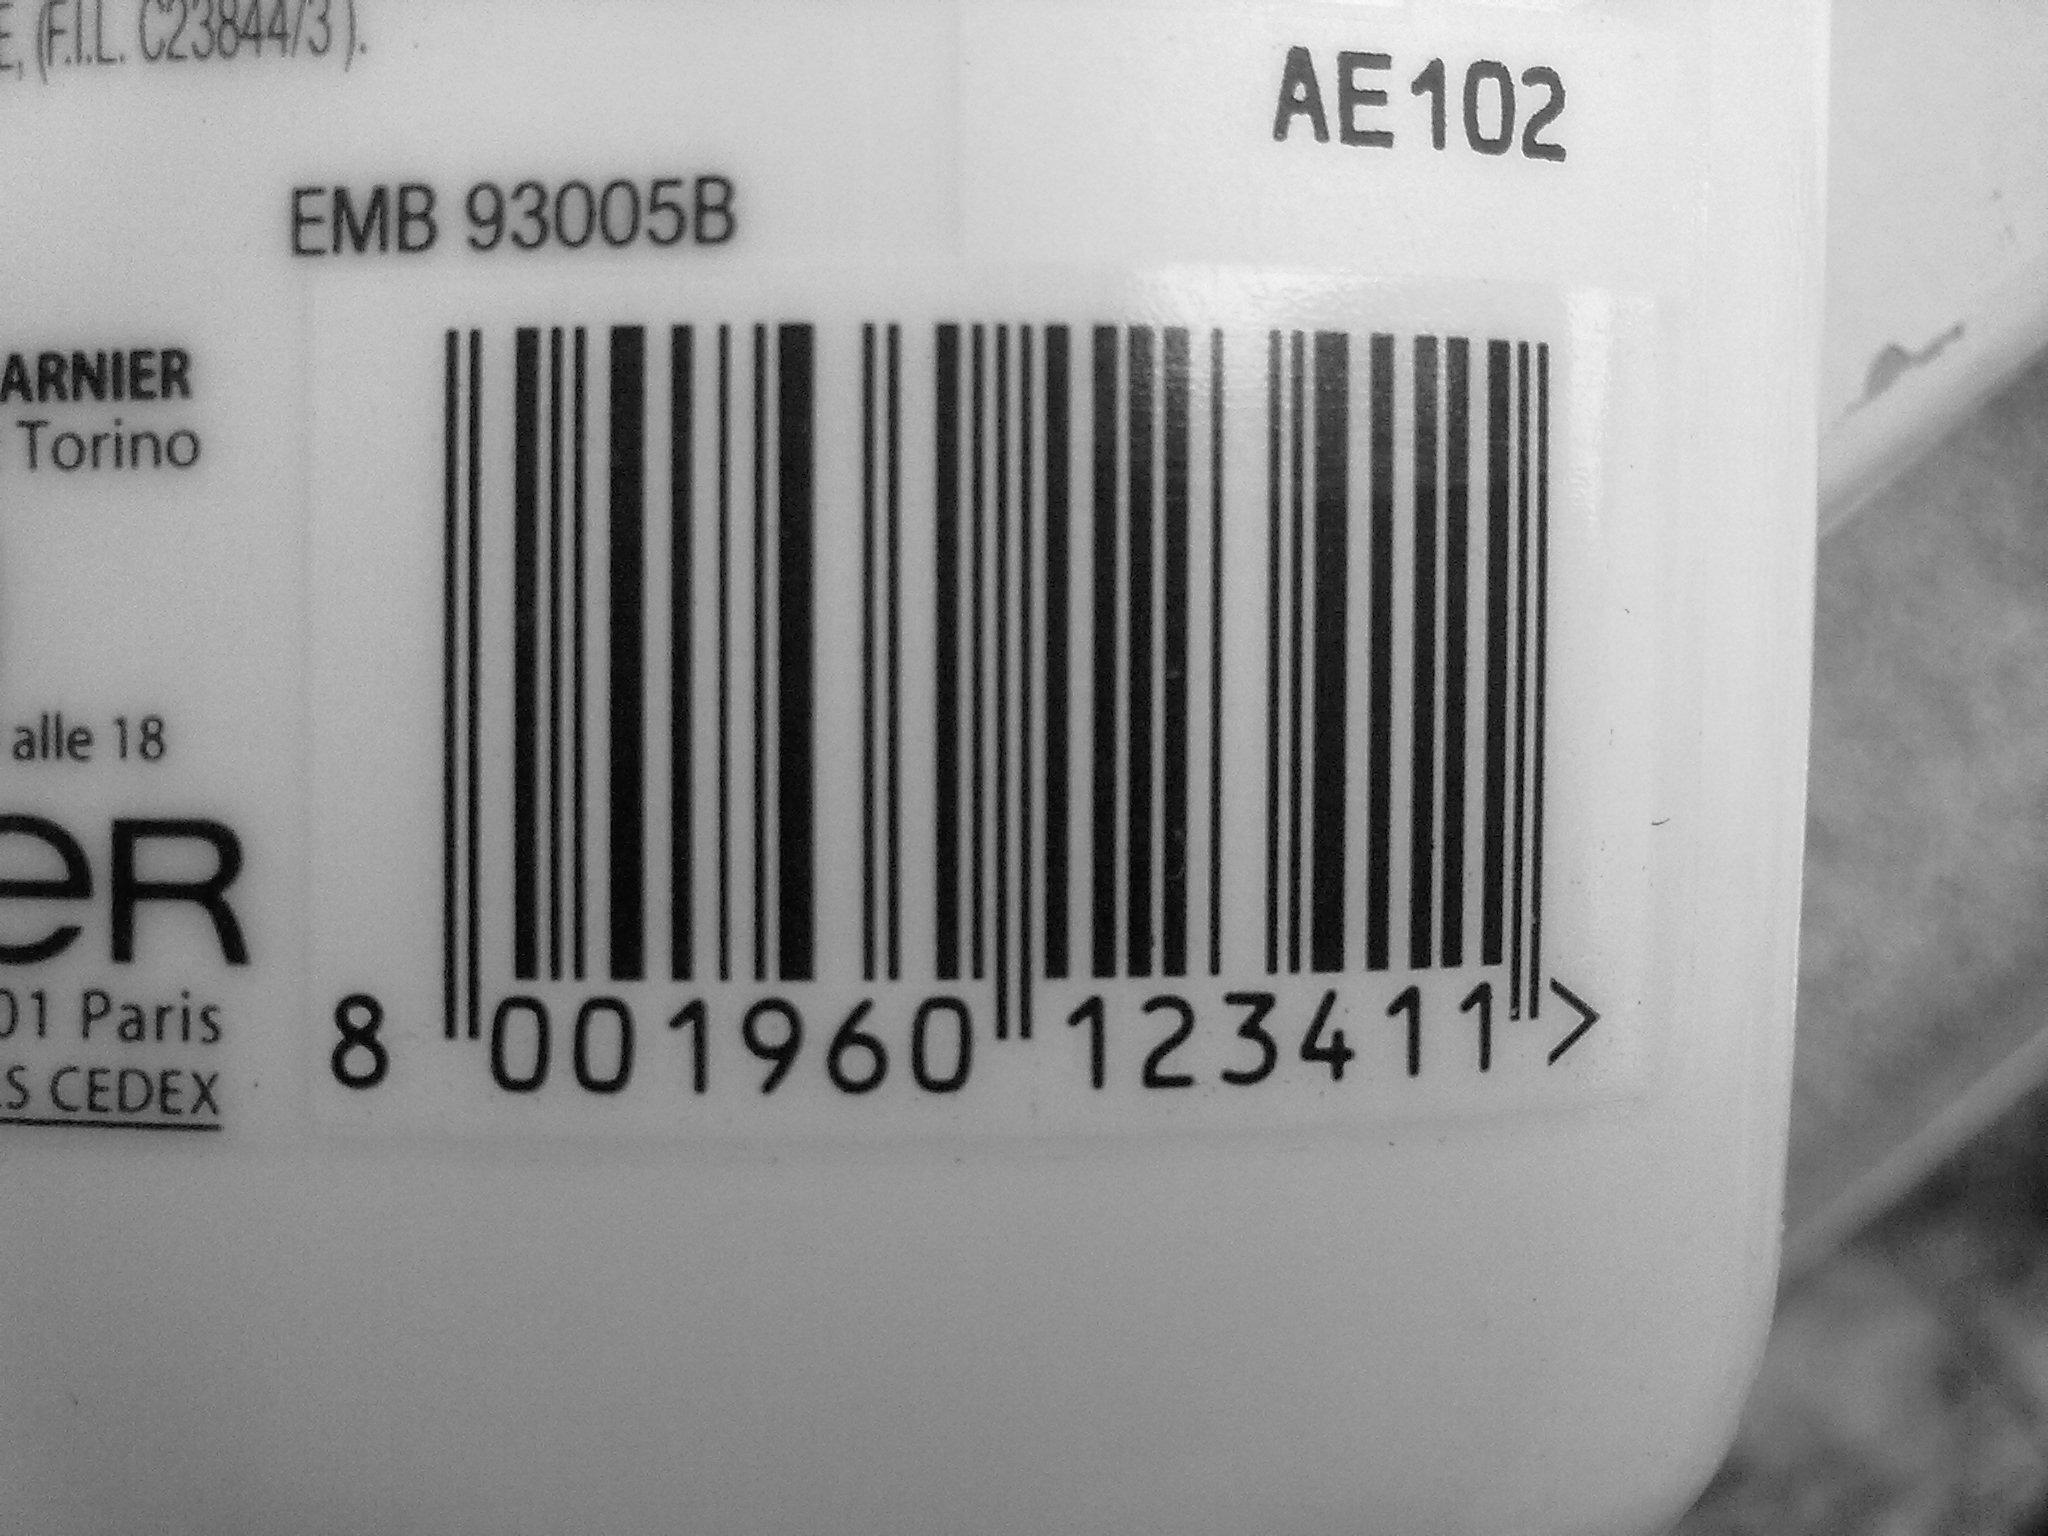Barcode: (346, 260, 1603, 1069)
